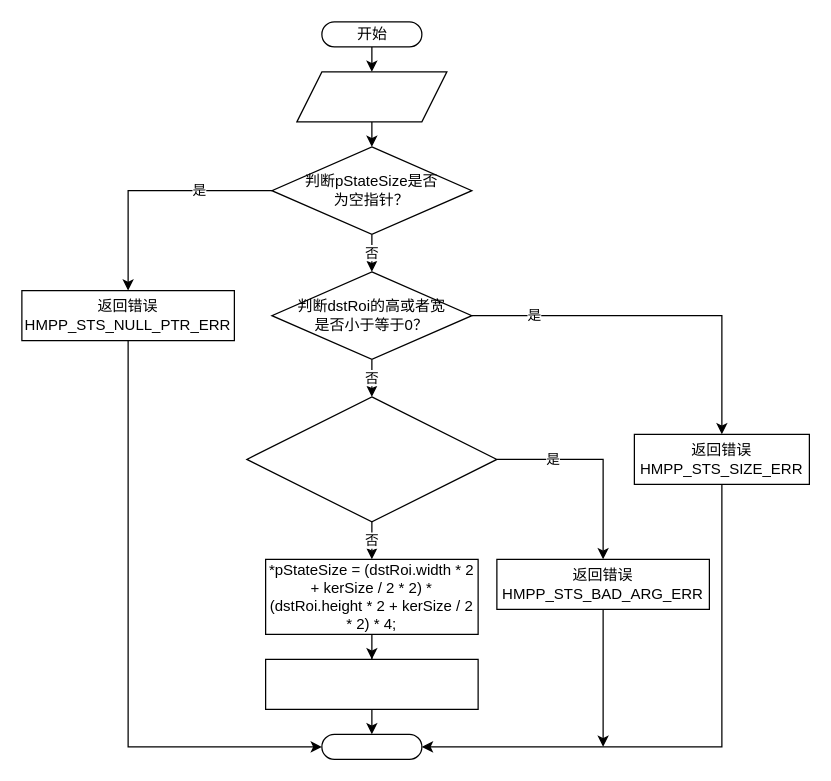
Some shapes in this 831 by 781 pixel diagram are drawn without their labels. Here are the shapes that lost their labels. From the top down, the centre of each, then its label:
the point at 371,96: 输入函数参数
the point at 371,459: 判断kerSize<=0 或者kerSize为偶数 或者rate<=1 或者rate>10?
the point at 371,683: 返回HMPP_STS_NO_ERR
the point at 371,746: 结束
